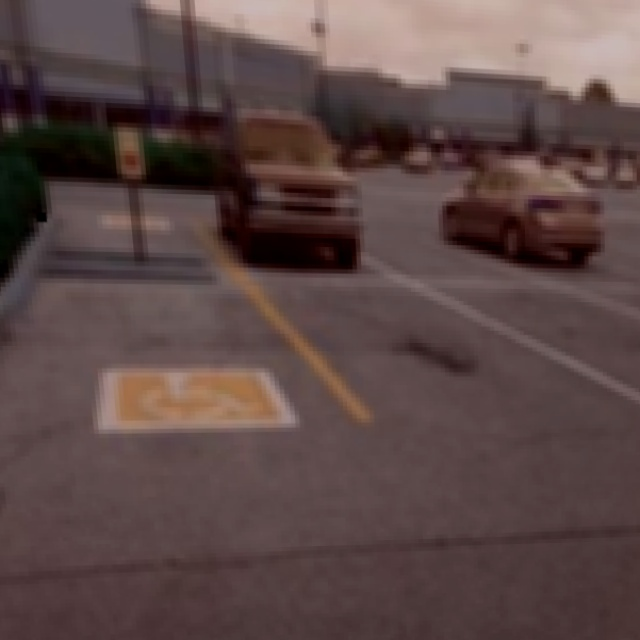ISA: (131, 370, 261, 419), (123, 150, 140, 168)
